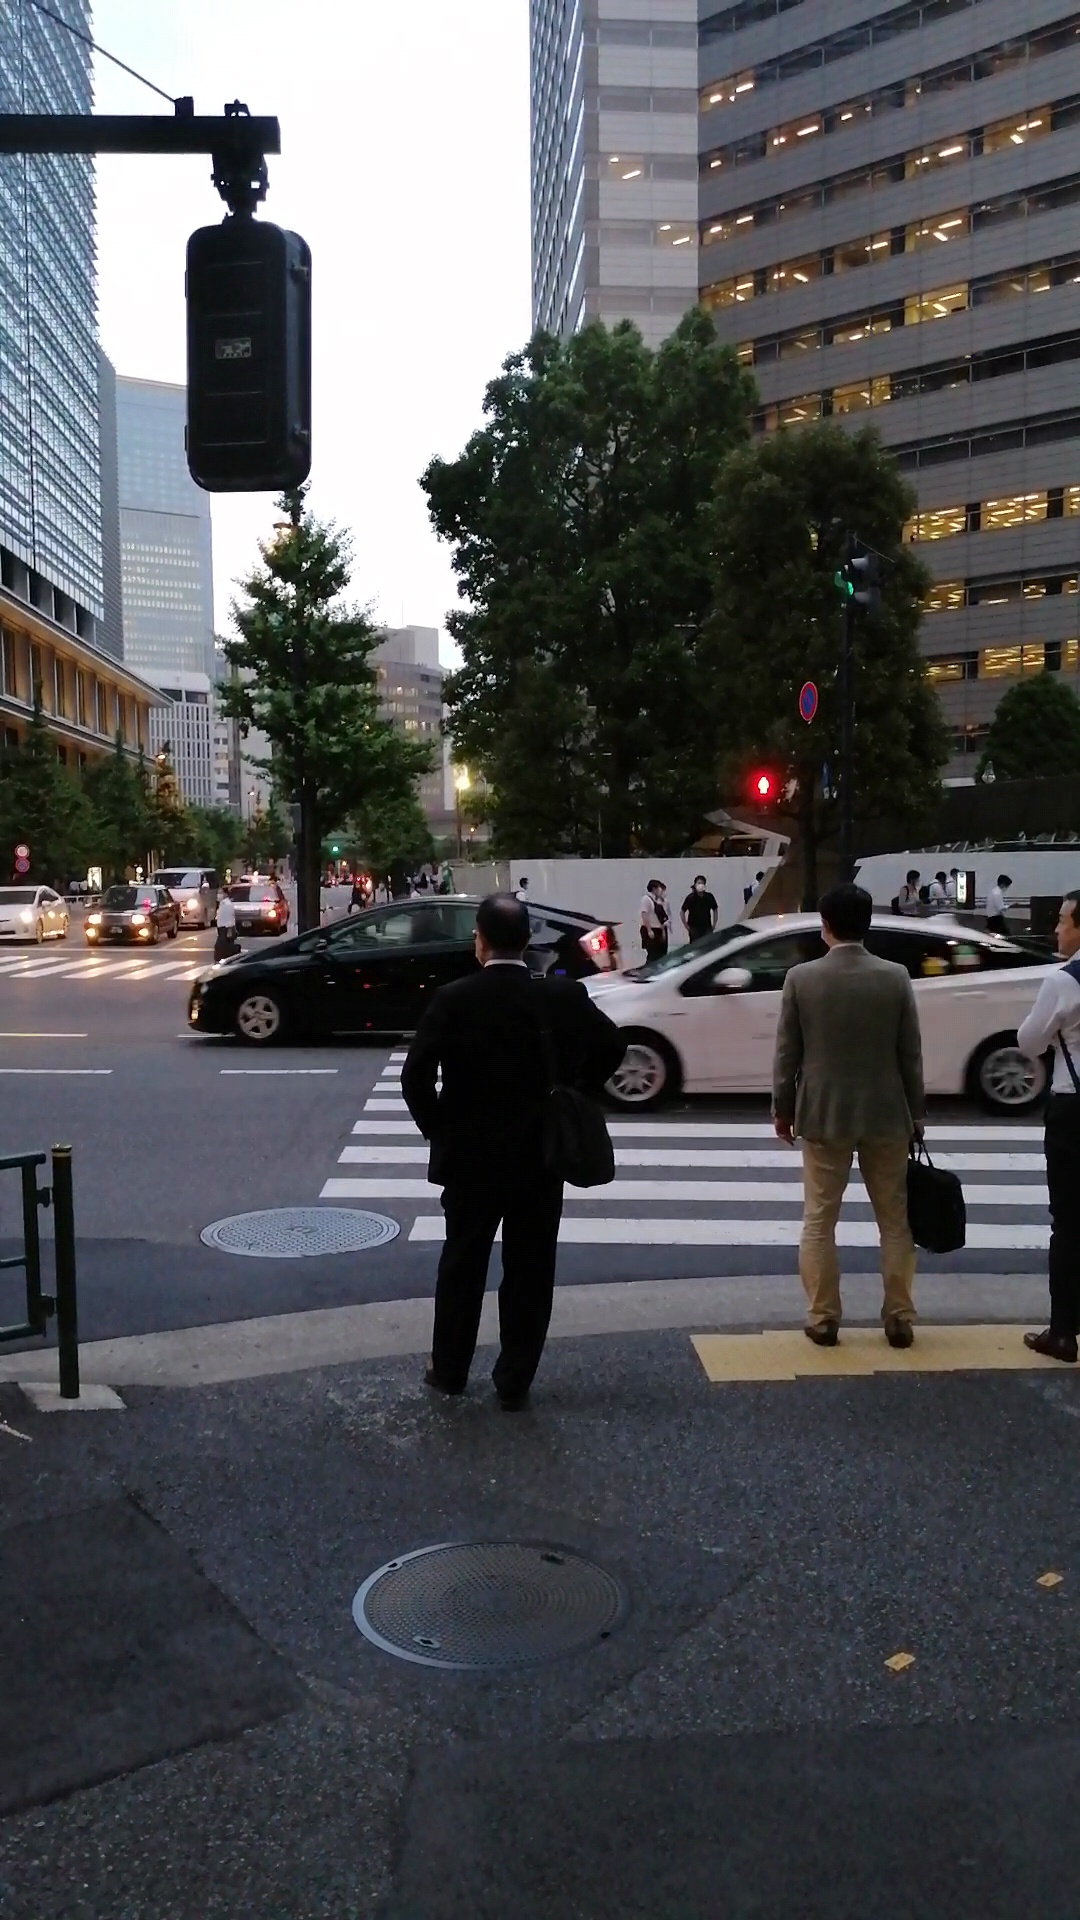red: (746, 765, 778, 818)
